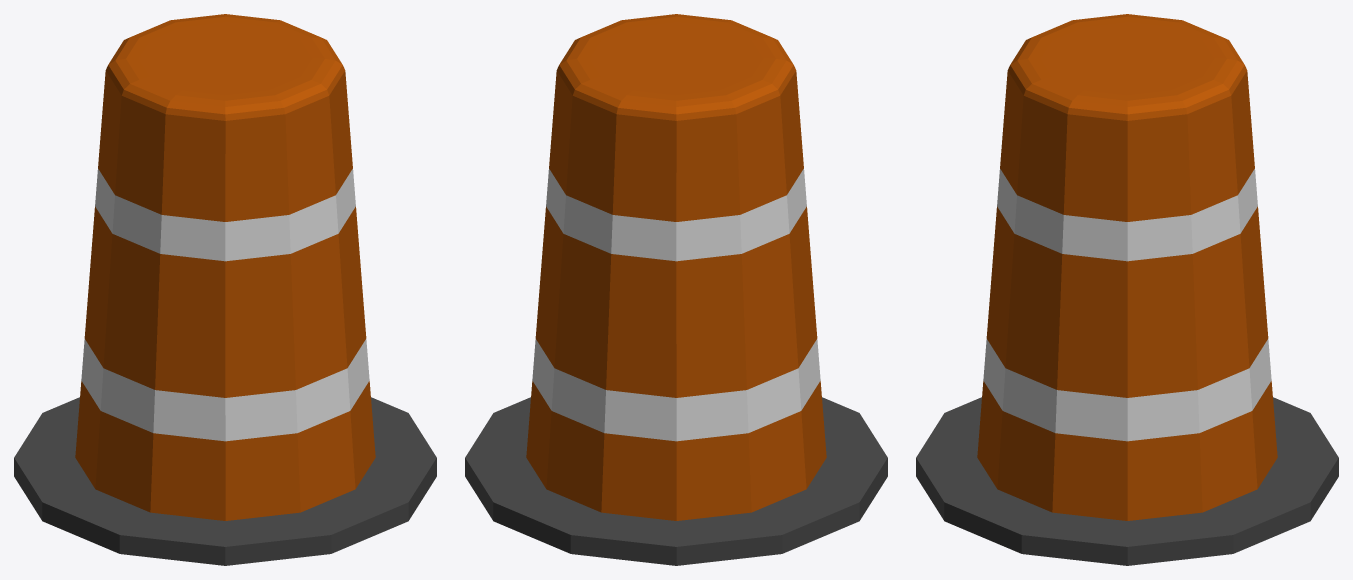
File: SafetyConeBig.fbx
3 views of the same model, side by side, from view 1: azimuth 30°, elevation 25°; view 2: azimuth 150°, elevation 25°; view 3: azimuth 270°, elevation 25° (orthographic).
Parts seen in each view (by area): view 1: SafetyConeBig; view 2: SafetyConeBig; view 3: SafetyConeBig.
Boxes of the visible parts, left/top/right/bottom form: SafetyConeBig: left=14, top=14, right=436, bottom=565; SafetyConeBig: left=465, top=14, right=887, bottom=565; SafetyConeBig: left=916, top=14, right=1338, bottom=565.
Size of the model in its own units: 274 by 299 by 274.
